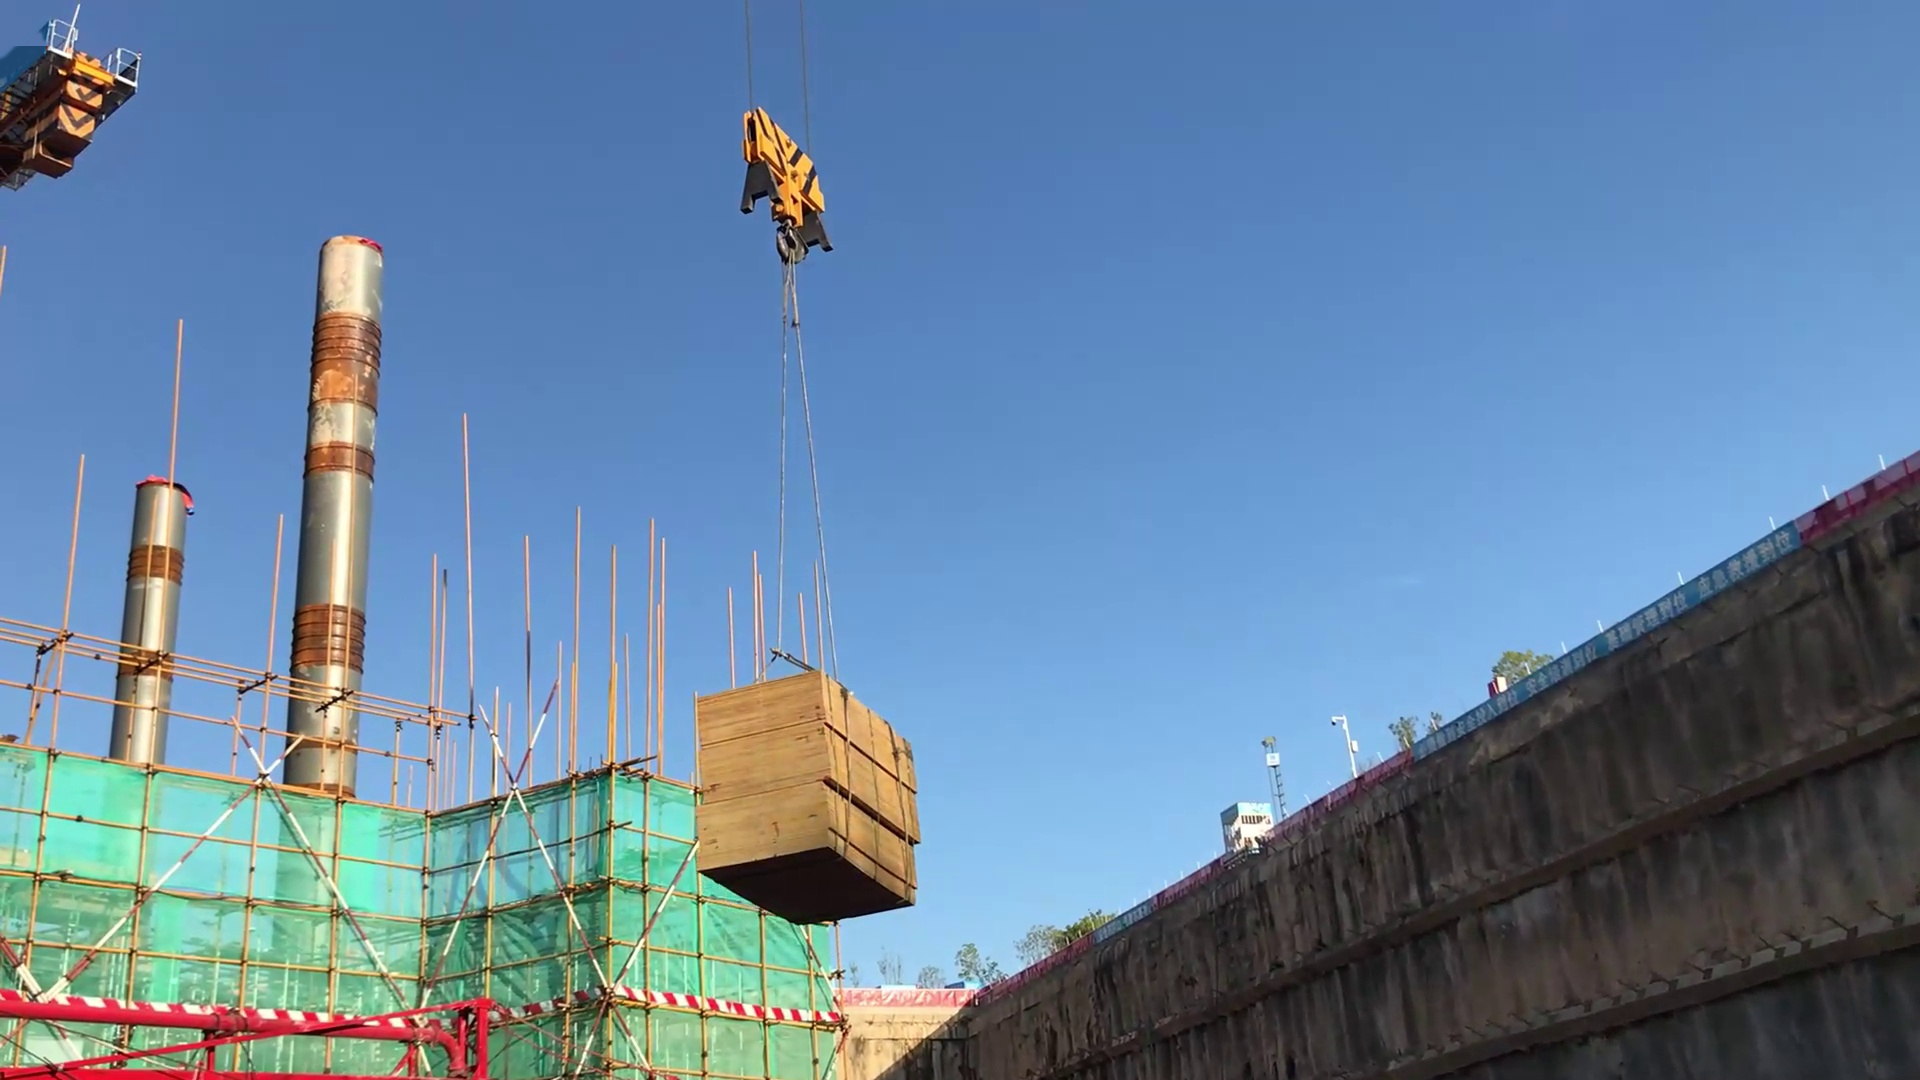board: (691, 679, 936, 934)
hook: (717, 63, 866, 423)
slogan: (1412, 487, 1811, 771)
